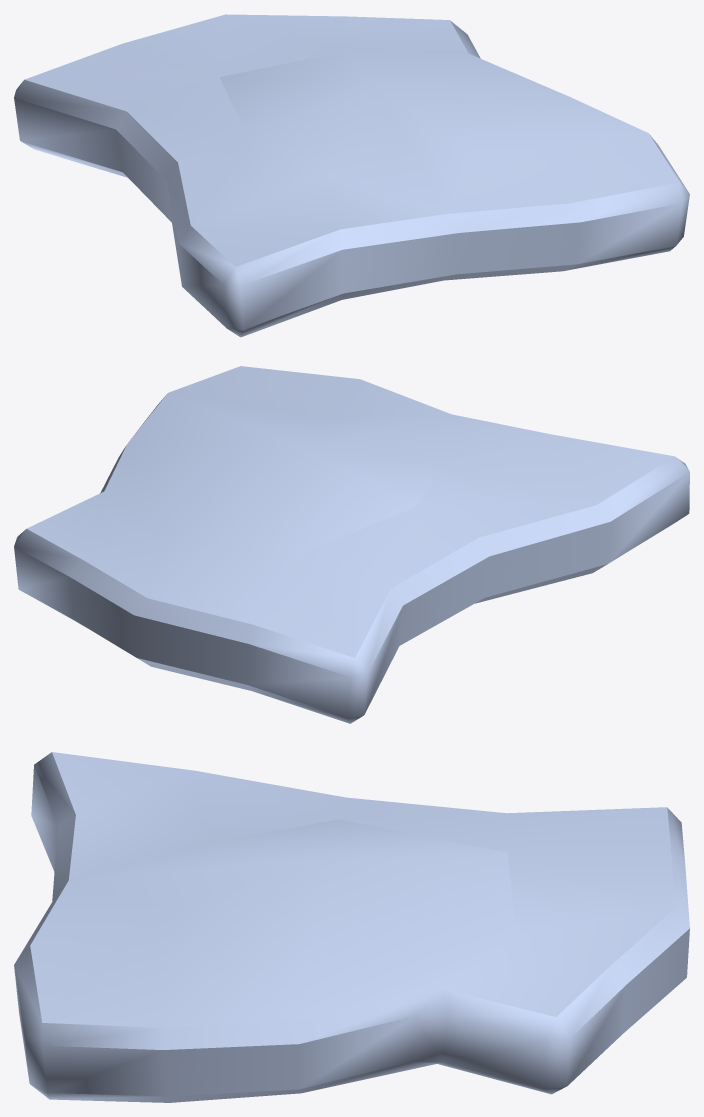
File: floe_ind_2.fbx
3 views of the same model, one above another, from view 1: azimuth 30°, elevation 25°; view 2: azimuth 150°, elevation 25°; view 3: azimuth 270°, elevation 25° (orthographic). The views are drawn at different scales.
Visible parts, largest first — view 1: Plane.024; view 2: Plane.024; view 3: Plane.024.
Boxes of the visible parts, x1,y1,x2,y2 form: Plane.024: [14, 14, 689, 337]; Plane.024: [14, 366, 689, 723]; Plane.024: [14, 752, 689, 1102].
Bounding box in the file's own units: 349 × 84.18 × 365.
